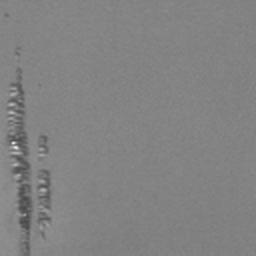Slag inclusion: (7, 68, 33, 256), (37, 169, 51, 209), (39, 135, 49, 153), (37, 212, 51, 223)
